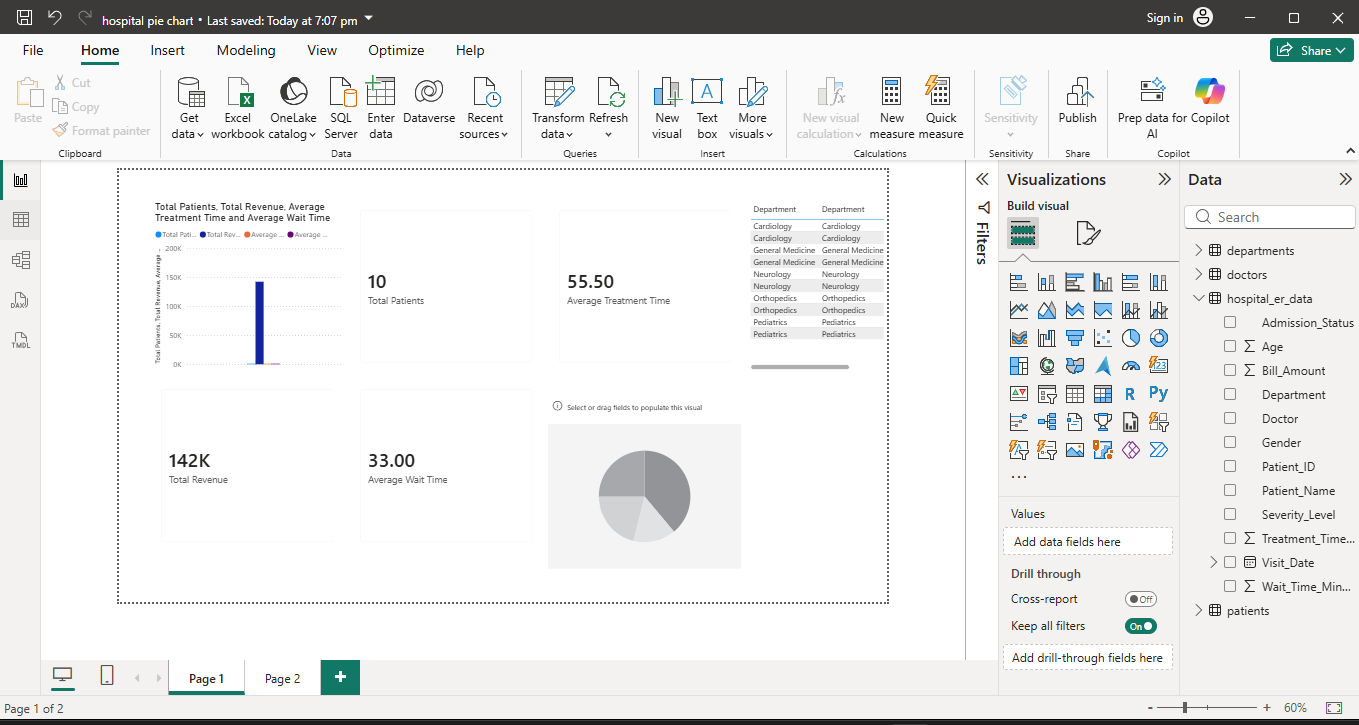

The dashboard page shown, as its layout file describes it:
{"tool":"powerbi","page":{"name":"Page 1","canvas":[1280,720],"ordinal":0},"visuals":[{"type":"clusteredColumnChart","fields":{"Y":["departments.Total Patients","departments.Total Revenue","departments.Average Treatment Time","departments.Average Wait Time"]},"box":[54.4,50,321.1,287.8],"z":0},{"type":"cardVisual","fields":{"Data":["departments.Total Revenue"]},"box":[54,348,321,288],"z":1000},{"type":"cardVisual","fields":{"Data":["departments.Total Patients"]},"box":[385,50,321,288],"z":2000},{"type":"cardVisual","fields":{"Data":["departments.Average Wait Time"]},"box":[385,348,321,288],"z":3000},{"type":"cardVisual","fields":{"Data":["departments.Average Treatment Time"]},"box":[716,50,321,288],"z":4000},{"type":"pieChart","box":[715.6,377.6,322,288.3],"z":4001},{"type":"tableEx","fields":{"Values":["hospital_er_data.Department","hospital_er_data.Department","hospital_er_data.Patient_ID"]},"box":[1047,50,233,288],"z":4002}]}

Visuals, with their boxes on the page's 1280x720 design canvas (x1, y1, x2, y2). These are canvas units, not pixel positions in the 1359x725 screenshot, which may show the page scaled, cropped or inside an application window:
clusteredColumnChart - departments.Total Patients x departments.Total Revenue: (54, 50, 376, 338)
cardVisual - departments.Total Revenue: (54, 348, 375, 636)
cardVisual - departments.Total Patients: (385, 50, 706, 338)
cardVisual - departments.Average Wait Time: (385, 348, 706, 636)
cardVisual - departments.Average Treatment Time: (716, 50, 1037, 338)
pieChart: (716, 378, 1038, 666)
tableEx - hospital_er_data.Department x hospital_er_data.Department: (1047, 50, 1280, 338)
